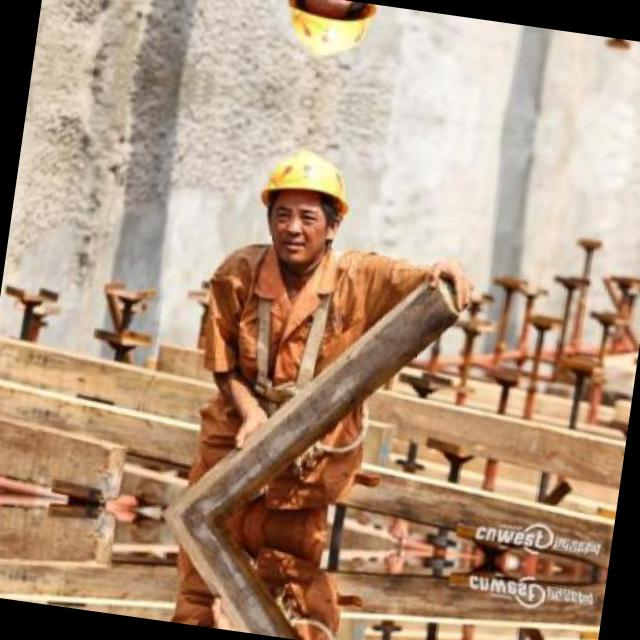helmet: (235, 132, 366, 276), (263, 0, 387, 76)
